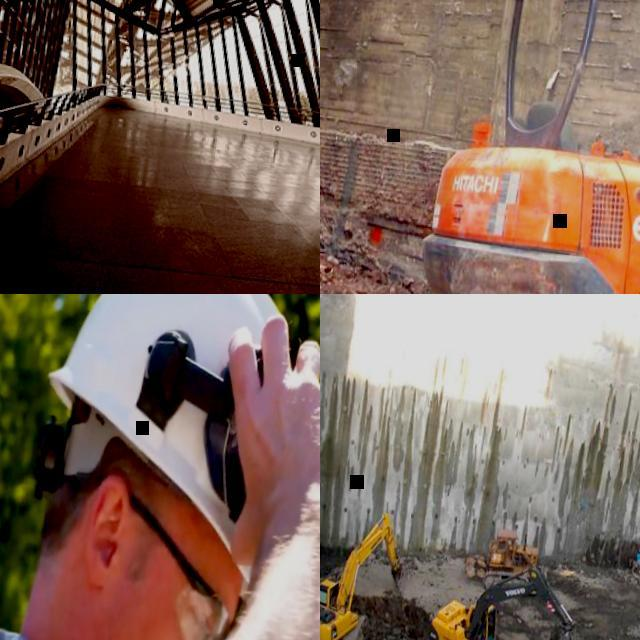helmet: (25, 294, 298, 593), (638, 547, 640, 551)
vest: (635, 553, 640, 563)
